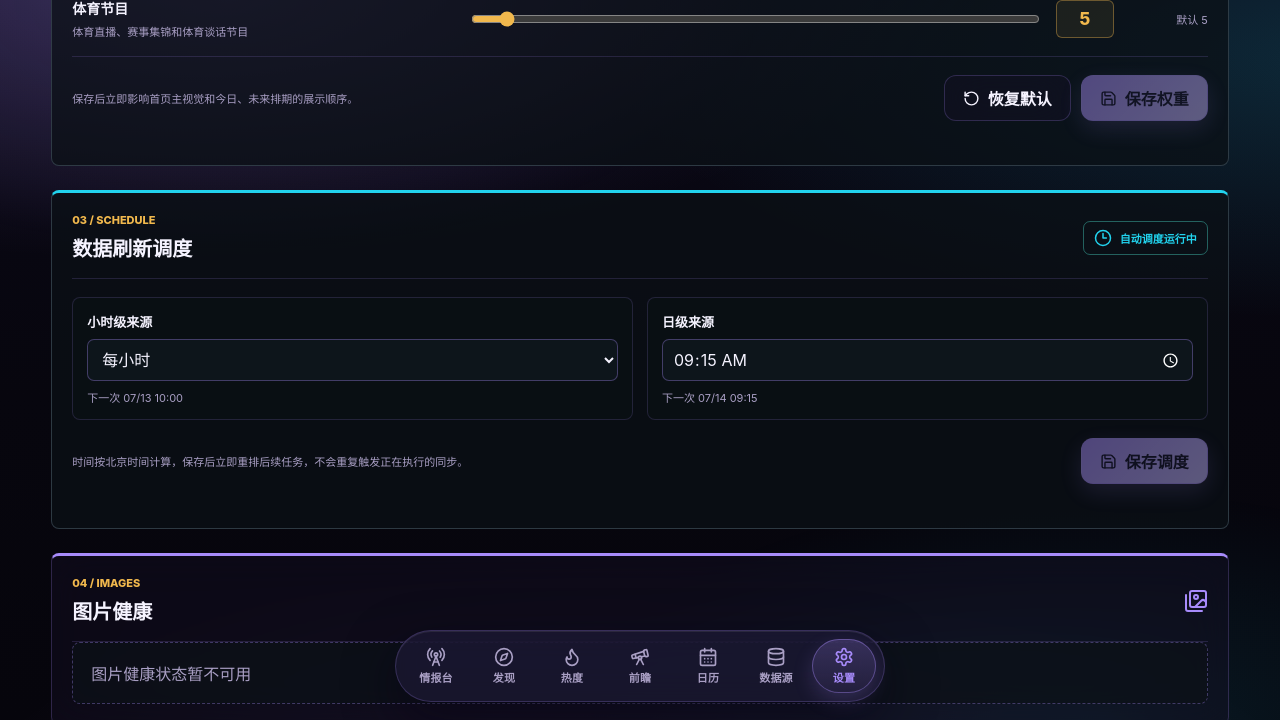
SettingsPage › 修改刷新频率并立即保存调度
(page scrolled)
Select "每 3 小时" in the dropdown named "小时级刷新频率" at coordinates (353, 360), box [87,339,618,381]
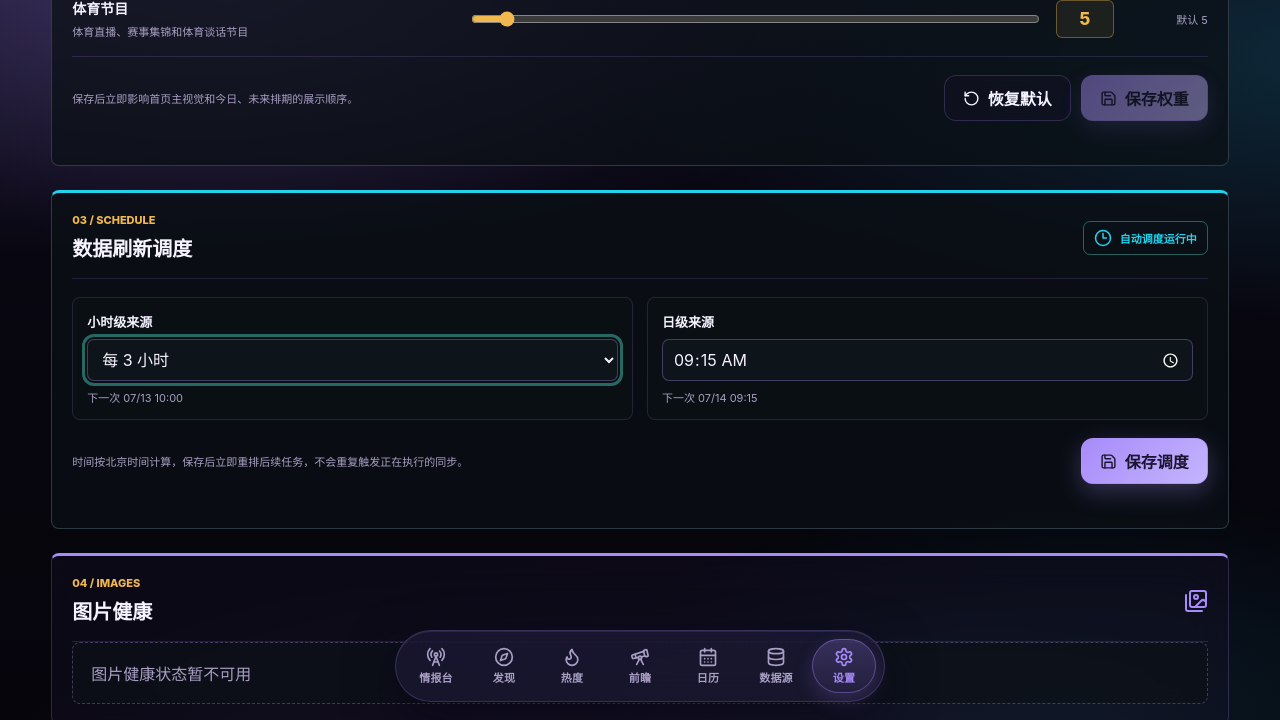
Replace the text in the time field named "日级刷新时间" with "06:40" at coordinates (927, 360), box [662,339,1193,381]
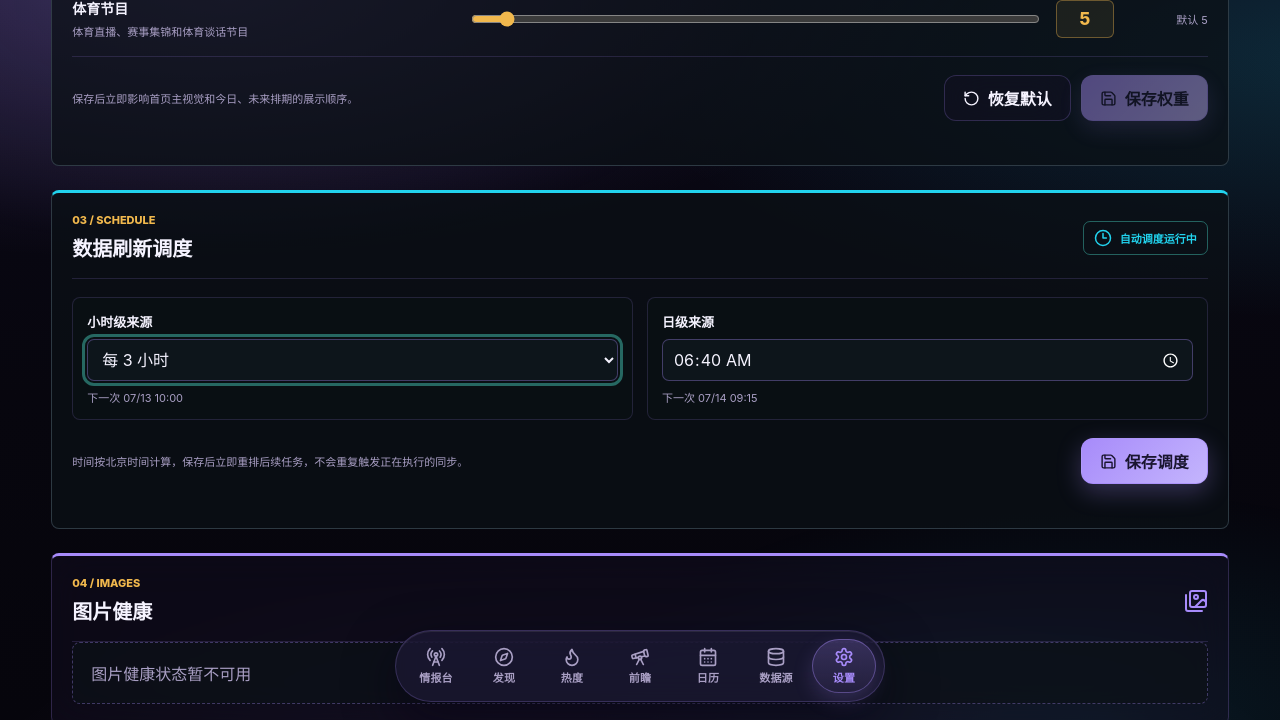
Click the button "保存调度" at coordinates (1144, 461), box [1081,438,1208,484]
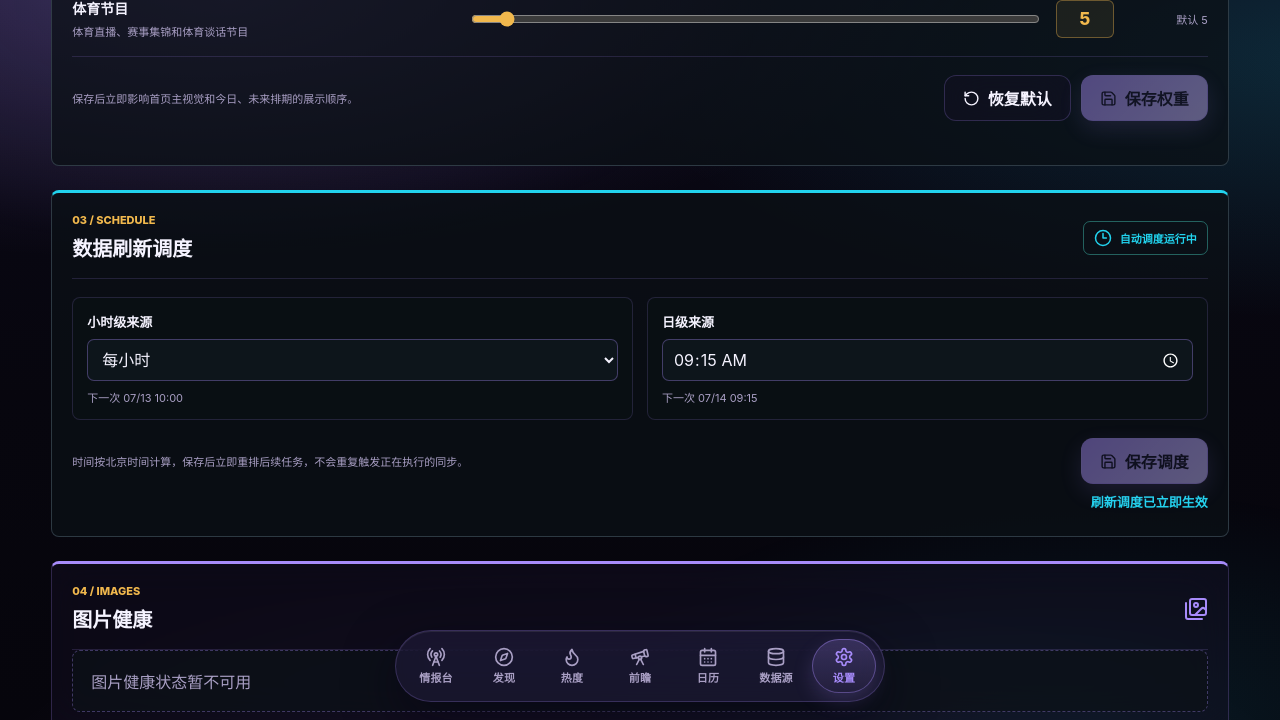
expect the text "刷新调度已立即生效" is shown: met, box [1091,494,1208,510]
